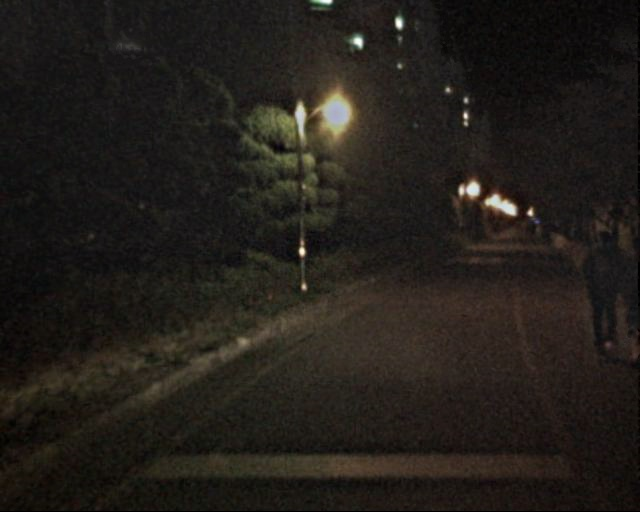person: (575, 231, 627, 358), (610, 234, 640, 359)
